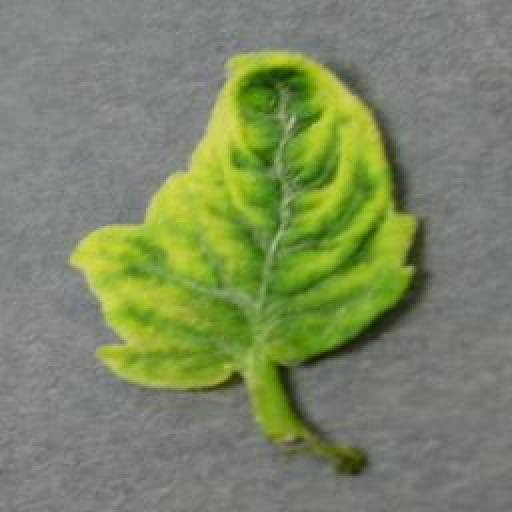Yellow Leaf Curl Virus: (69, 49, 419, 391)
